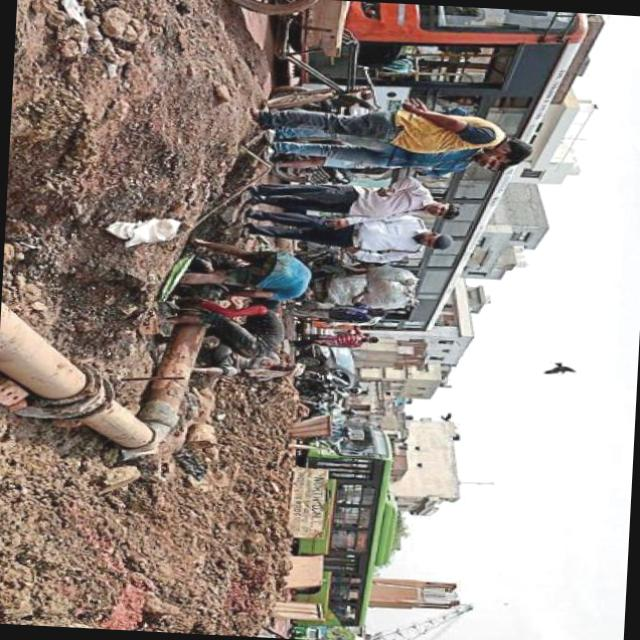gas: (81, 325, 205, 452), (0, 302, 91, 415)
